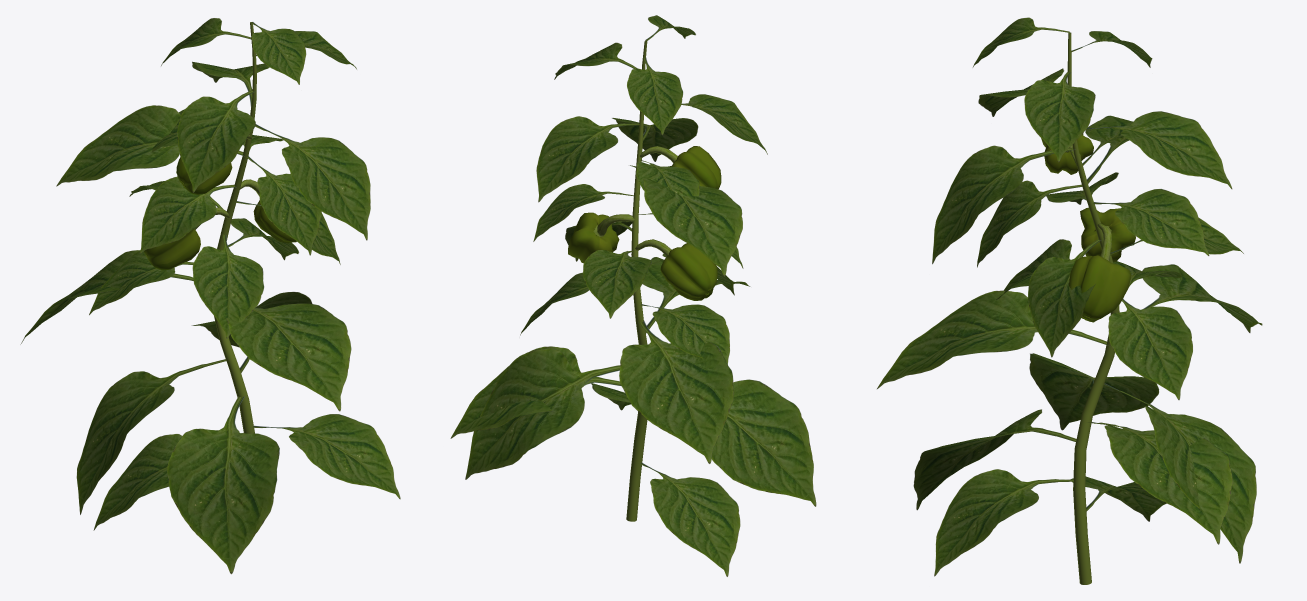
File: bellpepper_step7-transformed.glb
3 views of the same model, side by side, from view 1: azimuth 30°, elevation 25°; view 2: azimuth 150°, elevation 25°; view 3: azimuth 270°, elevation 25° (orthographic). The views are drawn at different scales.
Visible parts, largest first — view 1: result6; view 2: result6; view 3: result6.
Part boxes in pixels (x1,y1,x2,y2): result6: [20, 18, 400, 574]; result6: [450, 15, 816, 576]; result6: [877, 17, 1262, 584].
Size of the model in its own units: 10.19 by 14.8 by 10.01.
4 materials, 4 textured.
